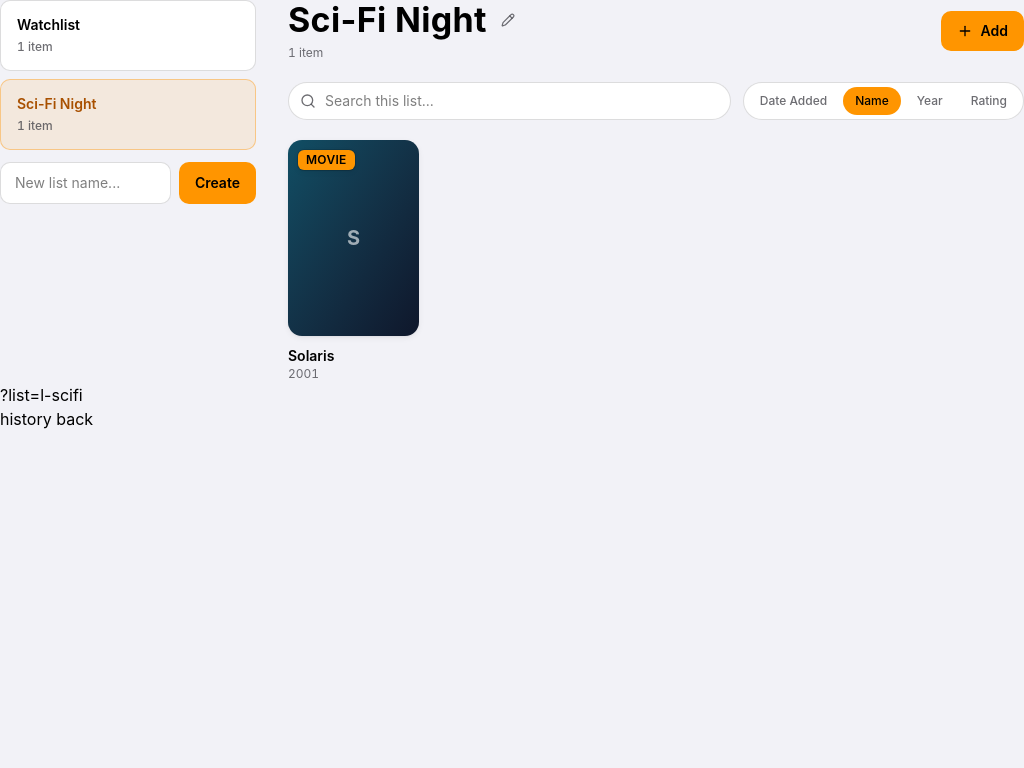
Scenario: ListsPage add-item modal › confirms an add with a toast and flips the row to Added
Check: the text "Solaris" is shown, box [288,347,334,364]
Click the button "Add": click(982, 31) [940,11,1023,51]
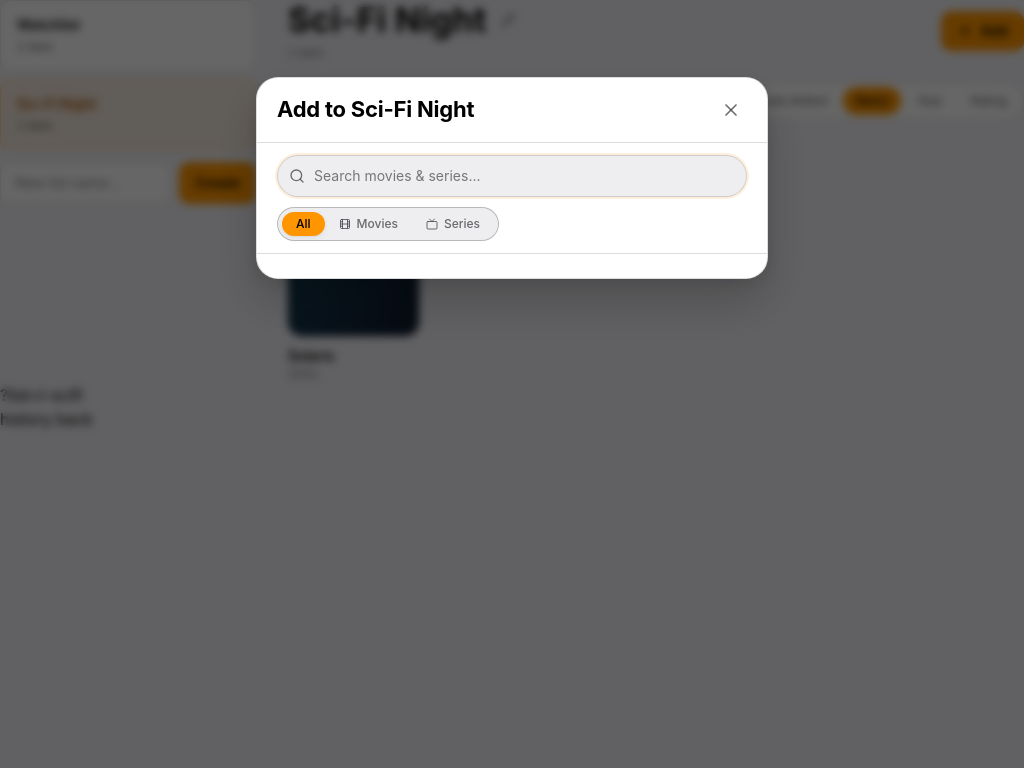
In the field named "Search movies and series": (512, 176) [277,155,747,197], type "sol"
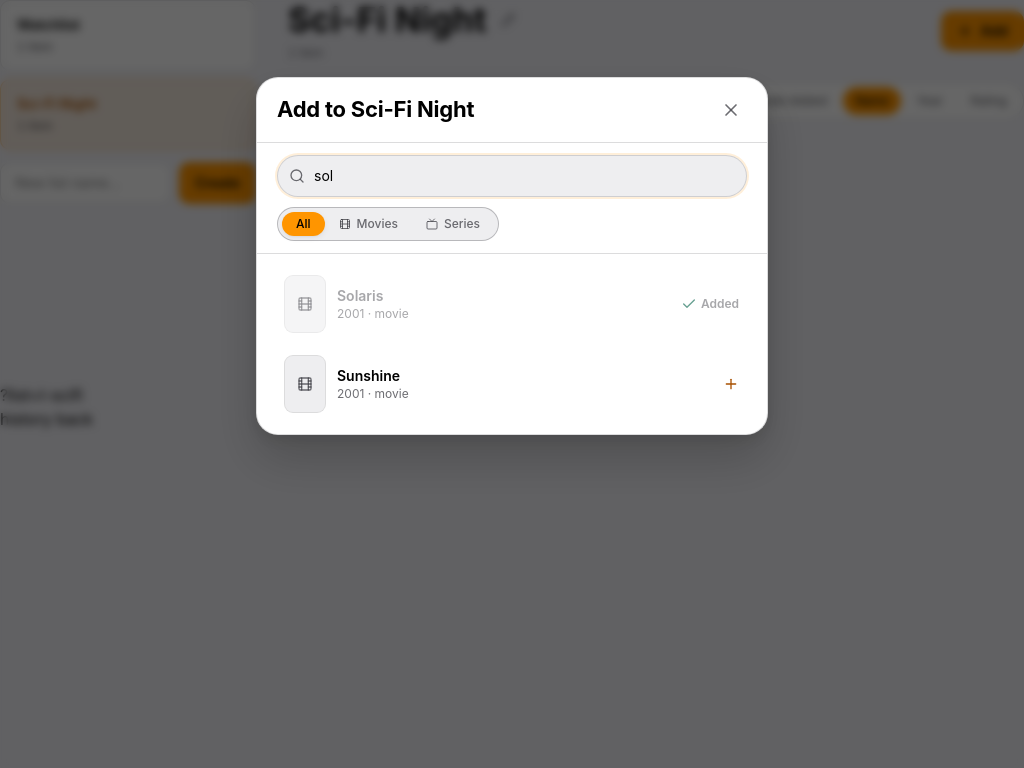
Click the button "Sunshine 2001 · movie": click(305, 384) [277,346,747,422]
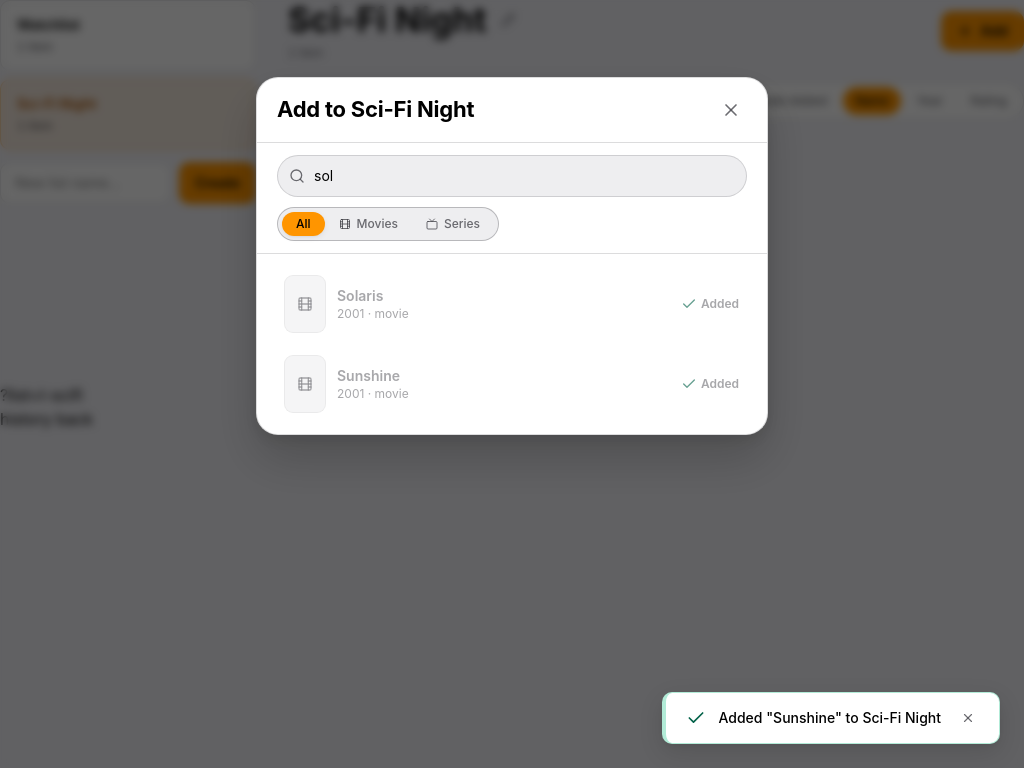
Check: the text "Added \"Sunshine\" to Sci-Fi Night" is shown, box [718,708,941,728]
Check: the button "Sunshine 2001 · movie Added" is shown, box [277,346,747,422]
